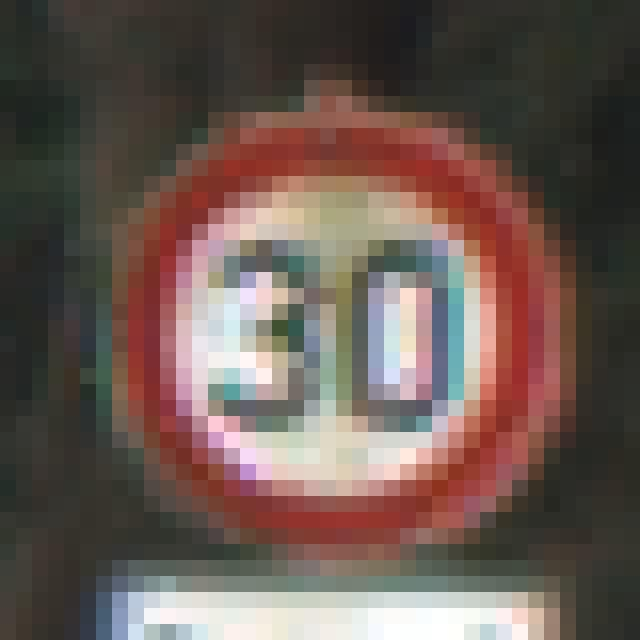Speed Limit -30-: (72, 88, 552, 552)
